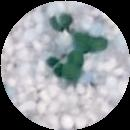Basil: (73, 31, 108, 50), (64, 49, 82, 84), (48, 12, 74, 32), (46, 57, 62, 76)
